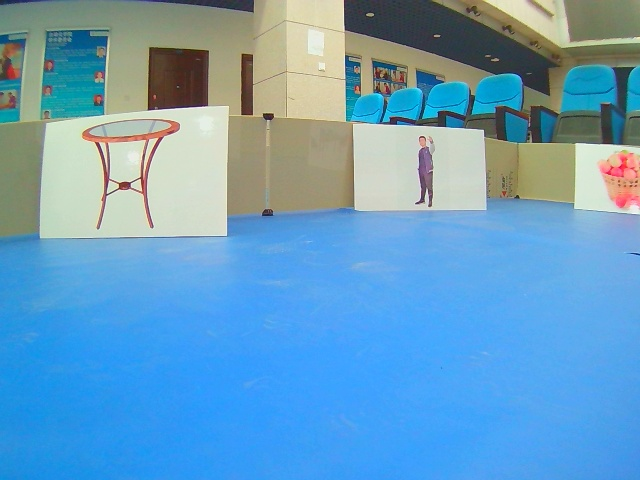person: (350, 124, 489, 213)
table: (40, 105, 231, 241)
